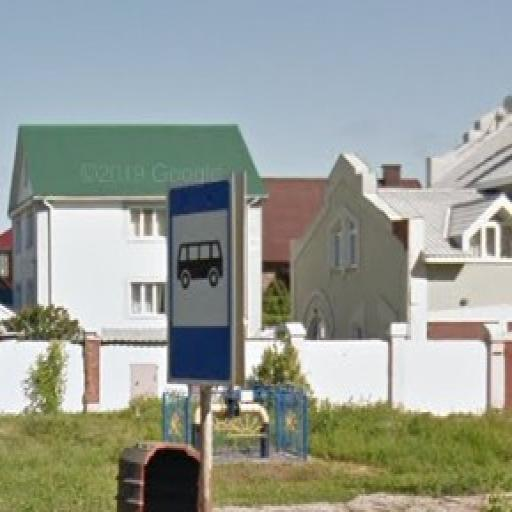traffic_sign: (166, 171, 237, 389)
